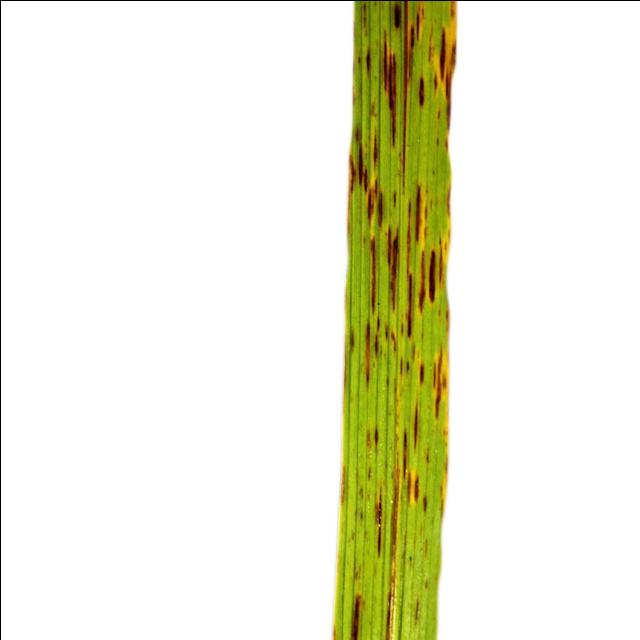Narrow brown: (318, 0, 541, 640)
